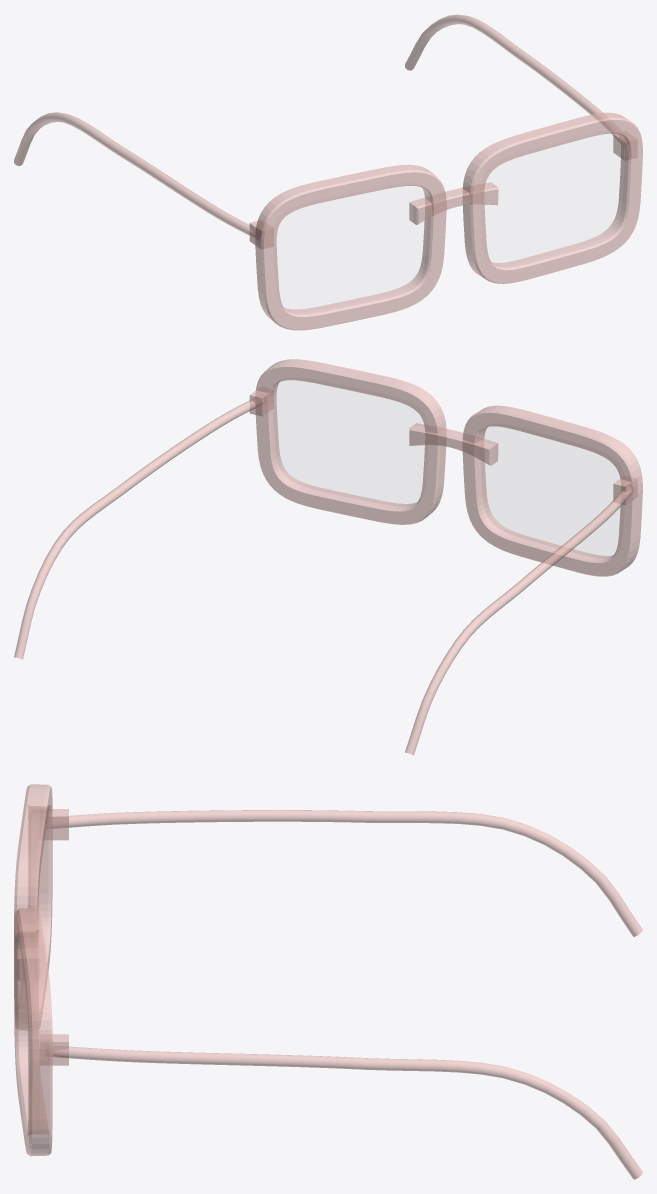
The model's file is NY-W07_Sana_Blush_crystal.glb.
3 views of the same model, one above another, from view 1: azimuth 30°, elevation 25°; view 2: azimuth 150°, elevation 25°; view 3: azimuth 270°, elevation 25° (orthographic). The views are drawn at different scales.
Parts seen in each view (by area): view 1: Sana_Blush_crystal_Acetate, Sana_Blush_crystal_Lenses; view 2: Sana_Blush_crystal_Acetate, Sana_Blush_crystal_Lenses; view 3: Sana_Blush_crystal_Acetate.
Part boxes in pixels (x1=…): Sana_Blush_crystal_Acetate: x1=14, y1=14, x2=642, y2=330; Sana_Blush_crystal_Lenses: x1=277, y1=134, x2=623, y2=311; Sana_Blush_crystal_Acetate: x1=14, y1=359, x2=642, y2=755; Sana_Blush_crystal_Lenses: x1=274, y1=381, x2=619, y2=557; Sana_Blush_crystal_Acetate: x1=14, y1=784, x2=642, y2=1179.
Size of the model in its own units: 0.1387 by 0.0456 by 0.1452.
